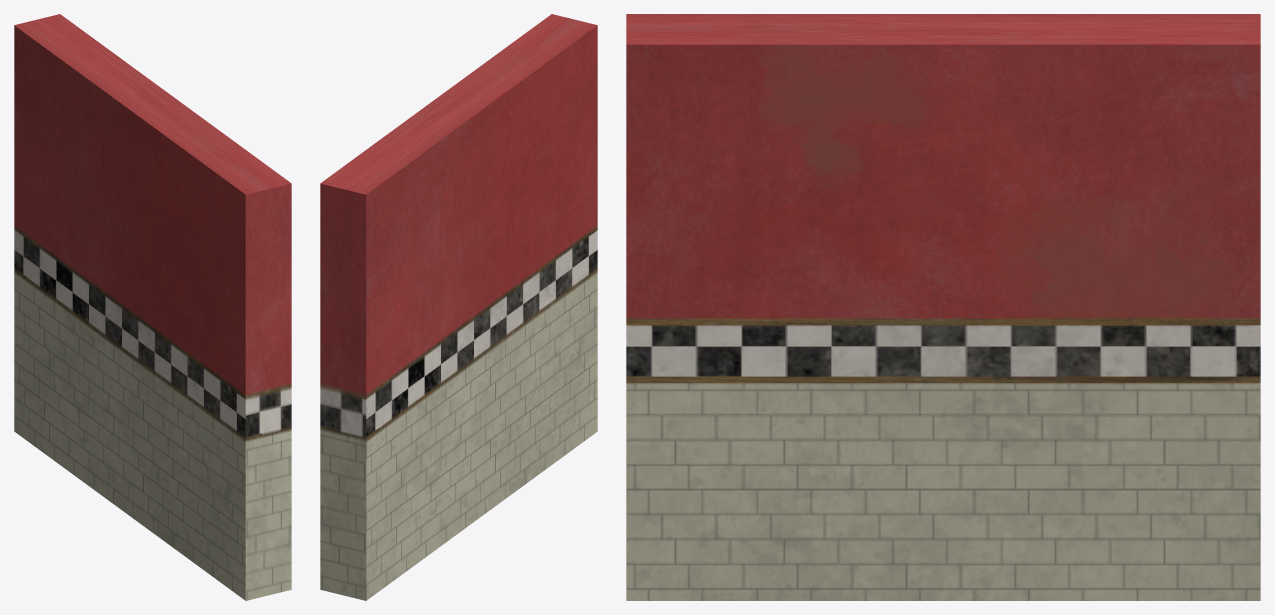
File: Wall.fbx
The picture shows the model from 3 angles, left to right: view 1: azimuth 30°, elevation 25°; view 2: azimuth 150°, elevation 25°; view 3: azimuth 270°, elevation 25°; orthographic projection. The views are drawn at different scales.
Parts seen in each view (by area): view 1: Wall.005; view 2: Wall.005; view 3: Wall.005.
Boxes of the visible parts, x1,y1,x2,y2 form: Wall.005: (14, 14, 291, 600); Wall.005: (320, 14, 597, 600); Wall.005: (626, 14, 1260, 600).
Size of the model in its own units: 91.67 by 774 by 800.
